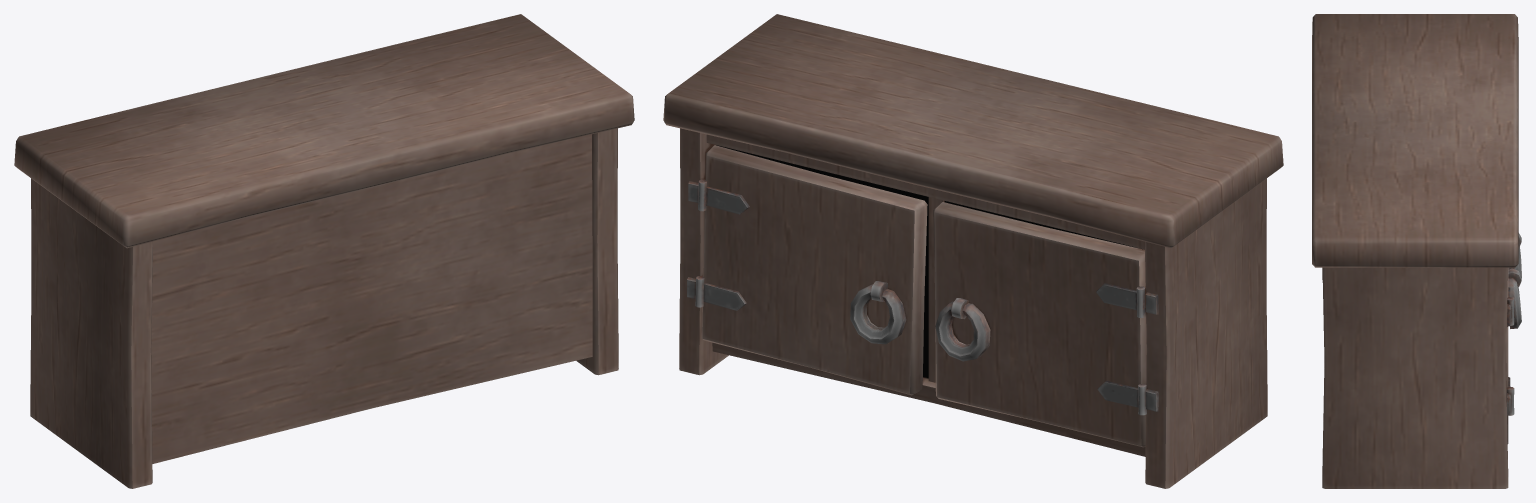
3 views of the same model, side by side, from view 1: azimuth 30°, elevation 25°; view 2: azimuth 150°, elevation 25°; view 3: azimuth 270°, elevation 25° (orthographic). The views are drawn at different scales.
Parts seen in each view (by area): view 1: submesh_0; view 2: submesh_0; view 3: submesh_0.
Boxes of the visible parts, box(x1,y1,x2,y2) form: submesh_0: box(14, 14, 634, 488); submesh_0: box(663, 14, 1283, 488); submesh_0: box(1312, 14, 1521, 488).
Bounding box in the file's own units: 1.95 × 1.01 × 0.7565.
Materials: 1 (1 with a texture image).
